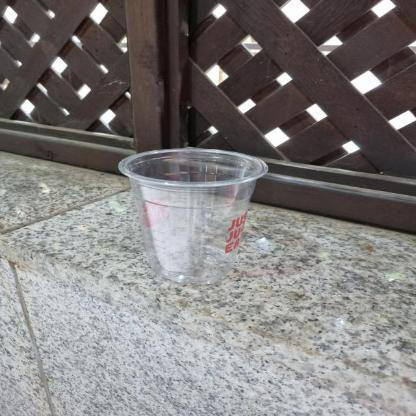Plastic Cup: (118, 148, 270, 286)
